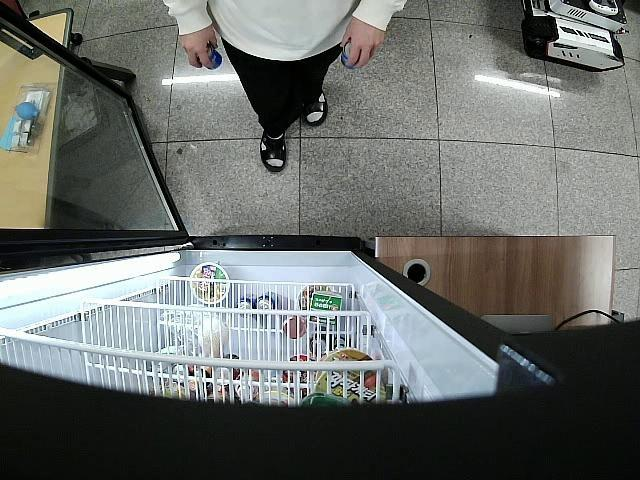15_letsbe: (202, 42, 222, 68), (342, 42, 354, 70)
